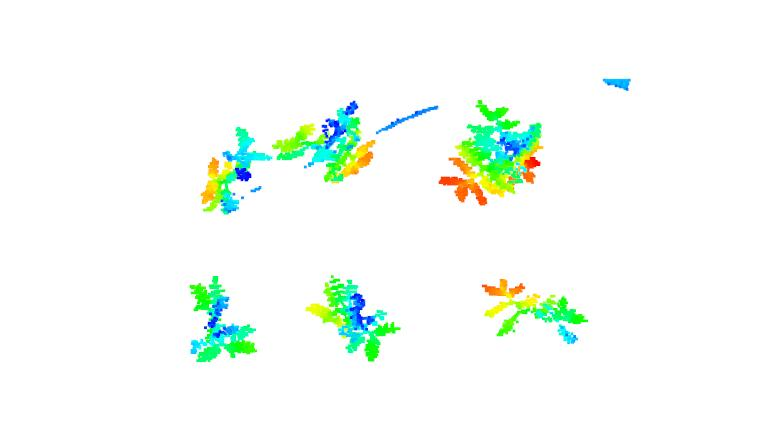chickpea: (440, 101, 545, 205), (274, 101, 374, 182), (479, 276, 589, 345), (313, 277, 396, 362), (202, 131, 271, 217), (189, 278, 257, 364)
